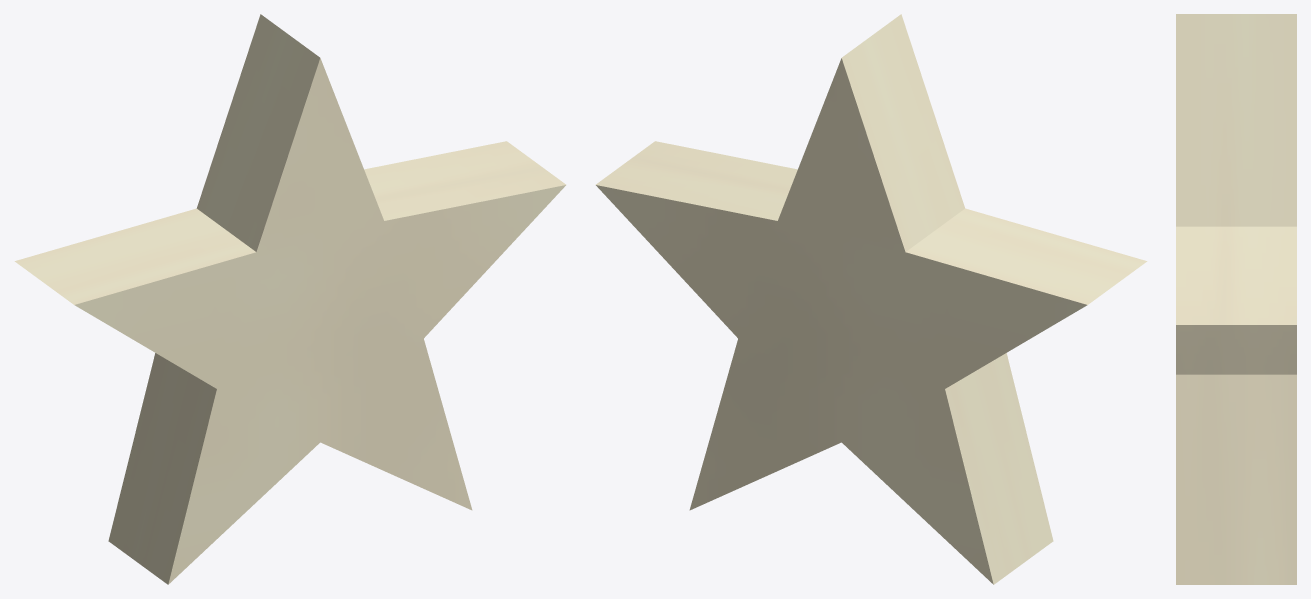
The model's file is star.obj.
The picture shows the model from 3 angles, left to right: view 1: azimuth 30°, elevation 25°; view 2: azimuth 150°, elevation 25°; view 3: azimuth 270°, elevation 25°; orthographic projection.
Parts seen in each view (by area): view 1: star; view 2: star; view 3: star.
Part boxes in pixels (box(x1,y1,x2,y2)): star: box(14, 14, 566, 584); star: box(595, 14, 1147, 584); star: box(1176, 14, 1296, 584).
Bounding box in the file's own units: 1.9 × 1.81 × 0.4.
1 material, 1 textured.
